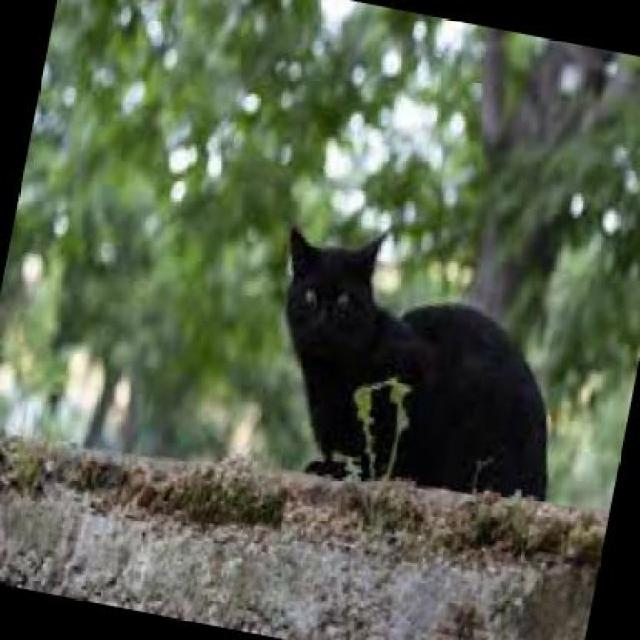animals: (232, 208, 582, 510)
